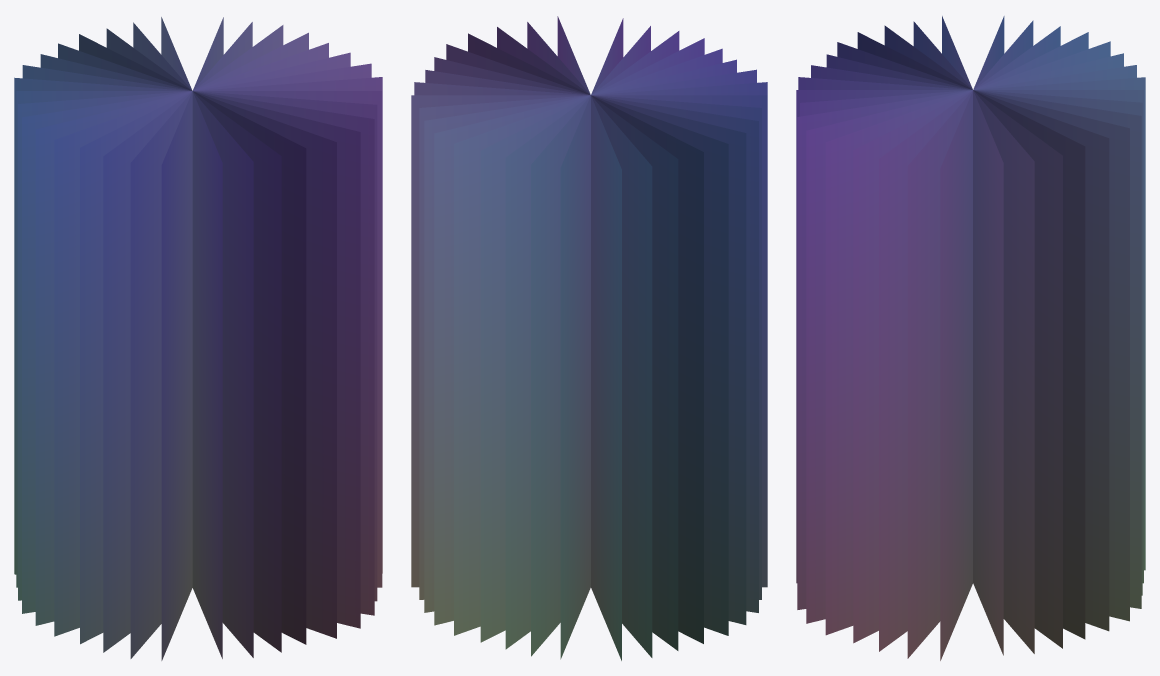
File: HolotnaTree.fbx
3 renders of one model, left to right at view 1: azimuth 30°, elevation 25°; view 2: azimuth 150°, elevation 25°; view 3: azimuth 270°, elevation 25°, orthographic.
Visible parts, largest first — view 1: HolotnaTree_Impostor_36; view 2: HolotnaTree_Impostor_36; view 3: HolotnaTree_Impostor_36.
Part boxes in pixels (bbox=[...]): HolotnaTree_Impostor_36: bbox=[14, 17, 382, 660]; HolotnaTree_Impostor_36: bbox=[411, 16, 767, 660]; HolotnaTree_Impostor_36: bbox=[796, 16, 1145, 660].
Size of the model in its own units: 520 by 772 by 496.
